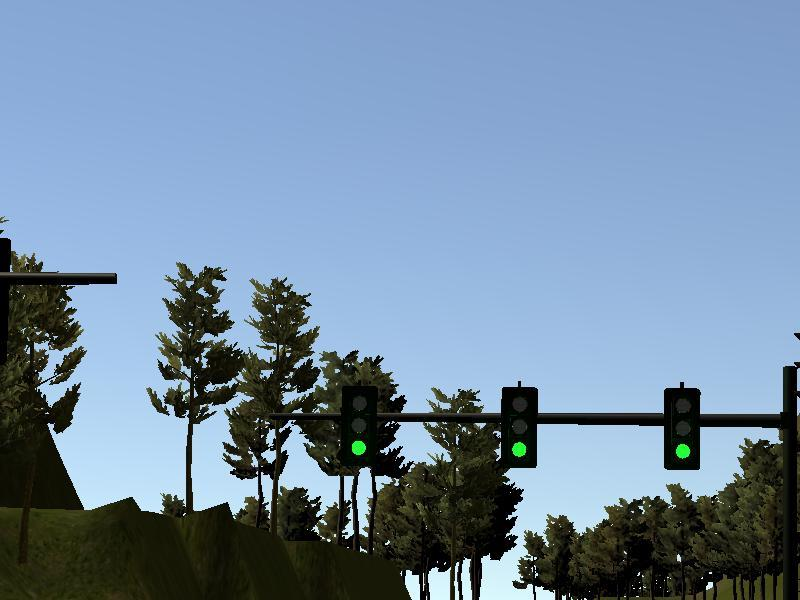Green: (665, 387, 700, 468), (342, 387, 377, 466), (503, 388, 535, 468)
